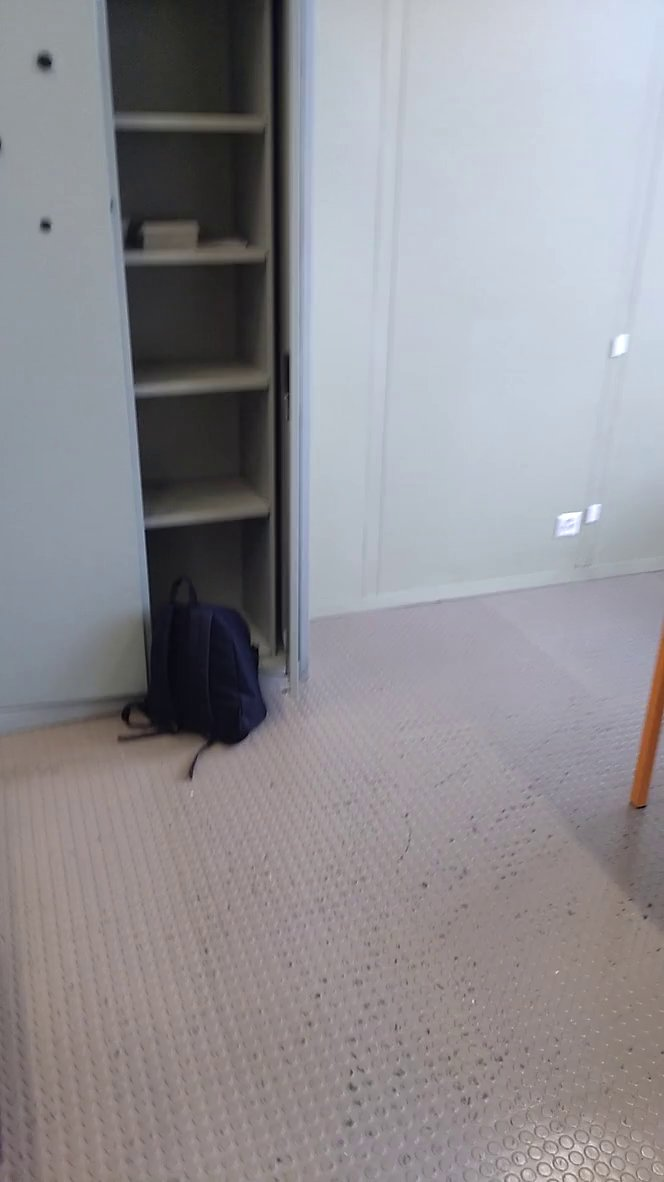bag: (116, 564, 279, 753)
